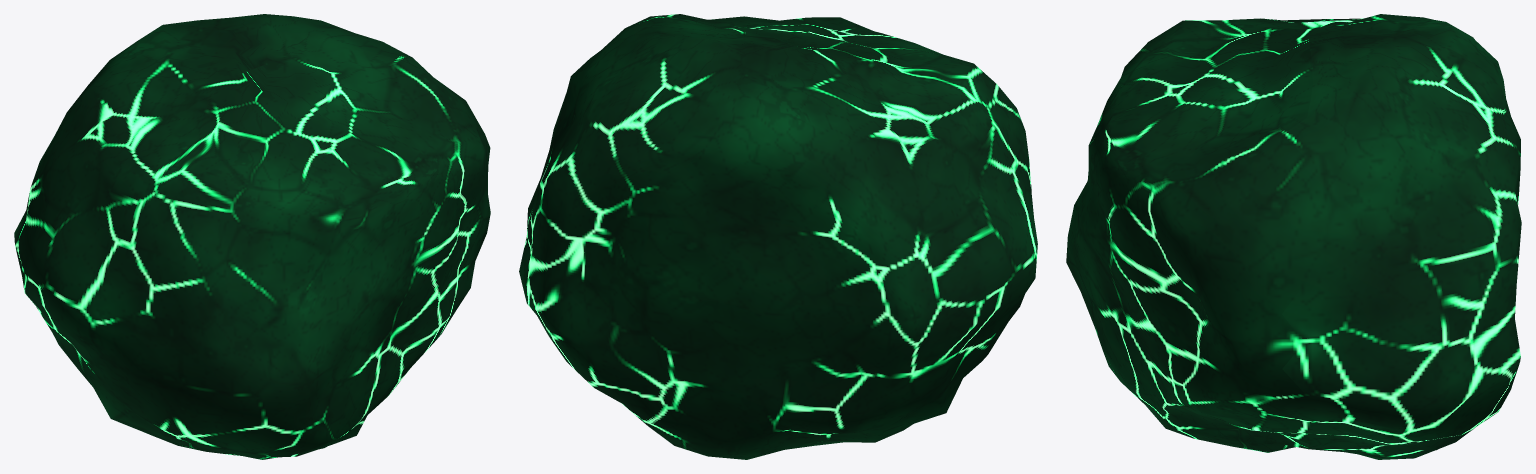
Rendered from rock_warm_emerald.glb.
The picture shows the model from 3 angles, left to right: view 1: azimuth 30°, elevation 25°; view 2: azimuth 150°, elevation 25°; view 3: azimuth 270°, elevation 25°; orthographic projection. The views are drawn at different scales.
Visible parts, largest first — view 1: rock; view 2: rock; view 3: rock.
Boxes of the visible parts, x1=… form: rock: x1=14, y1=14, x2=490, y2=459; rock: x1=519, y1=14, x2=1037, y2=459; rock: x1=1066, y1=14, x2=1521, y2=459.
Size of the model in its own units: 2.04 by 1.74 by 1.71.
1 material, 1 textured.
